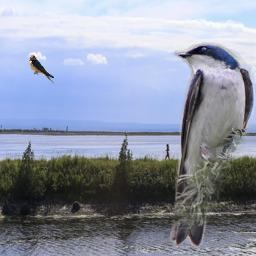Swallow: (167, 42, 256, 248), (29, 55, 58, 88)
